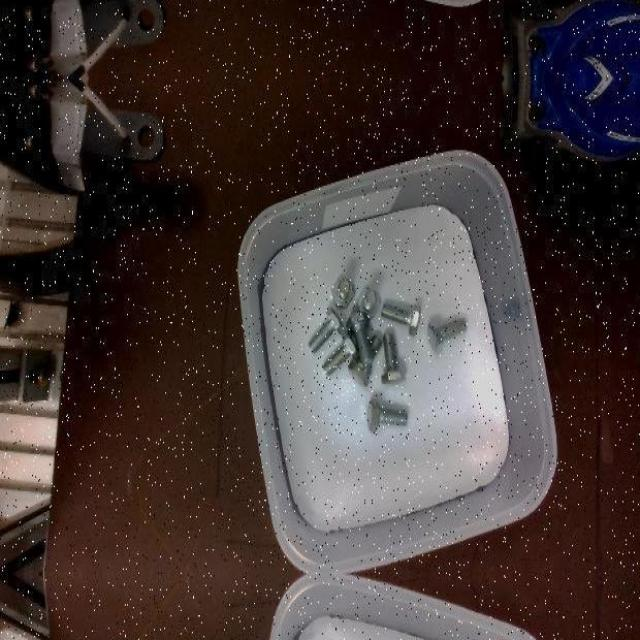screw: (307, 304, 343, 352), (322, 330, 359, 376), (346, 311, 374, 366), (427, 316, 468, 353), (366, 397, 408, 432), (381, 302, 421, 337), (380, 332, 405, 384), (331, 276, 354, 307)
